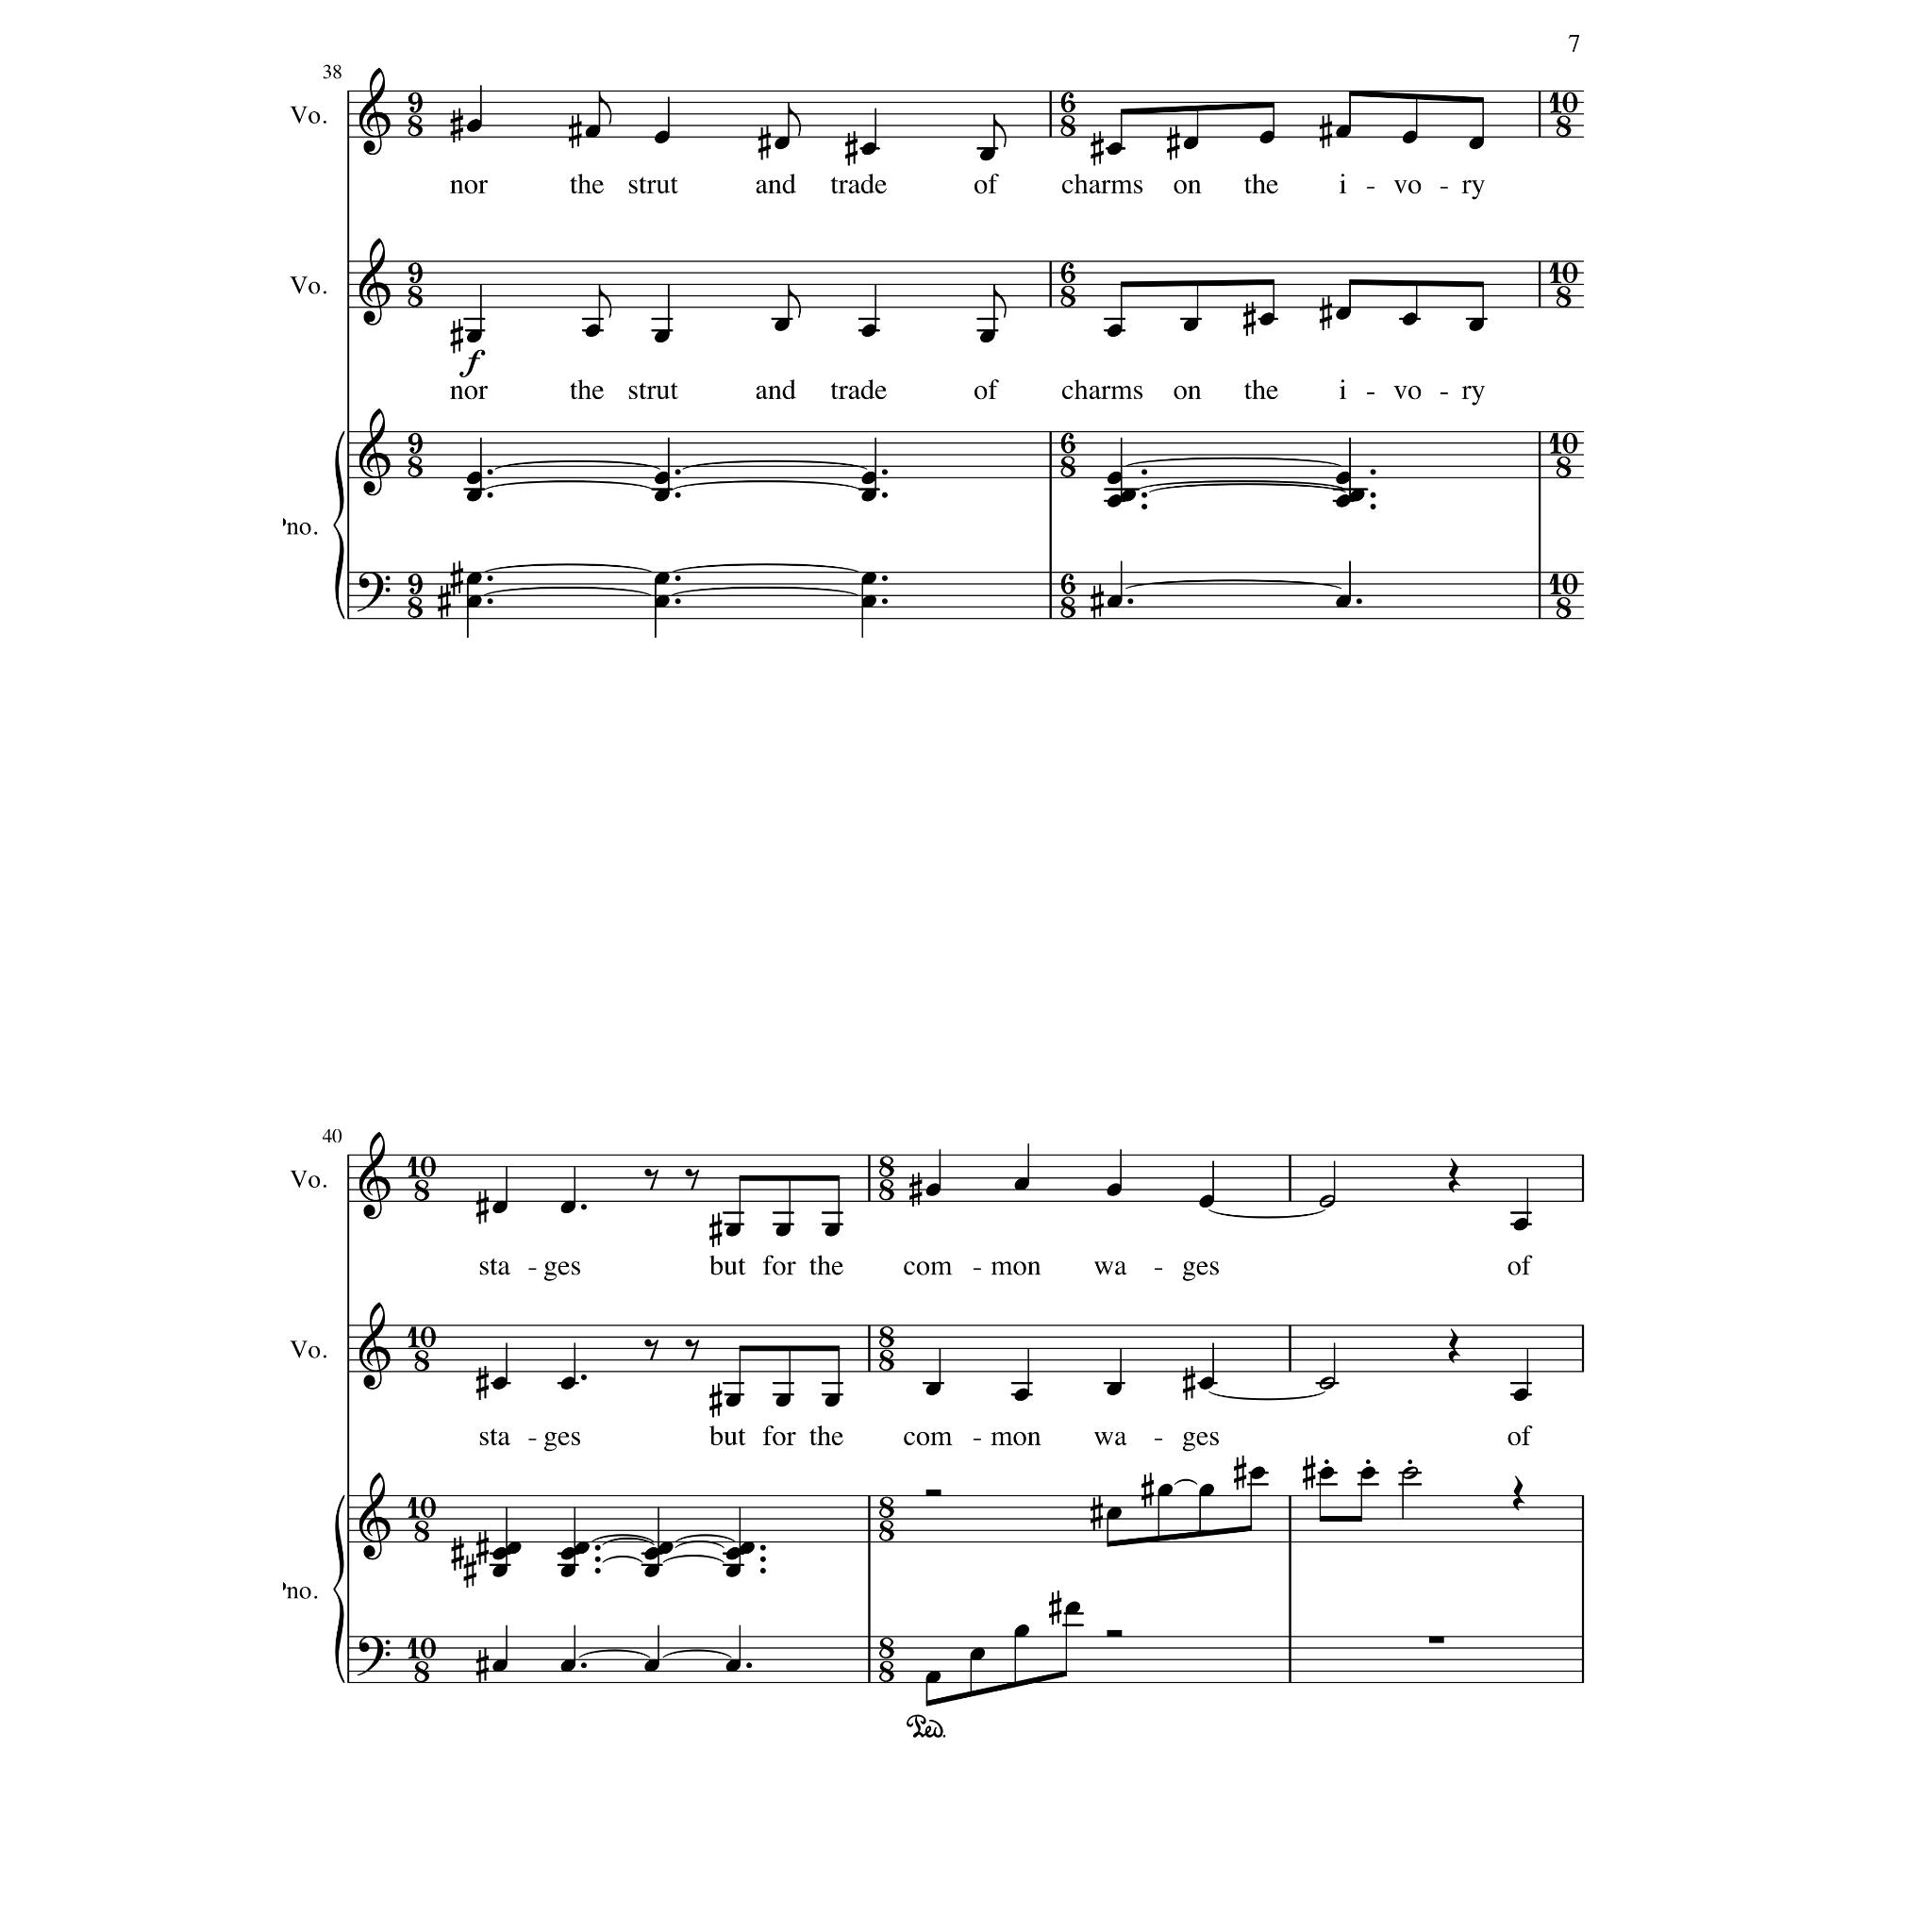brace: (333, 430, 345, 621), (333, 1495, 345, 1684)
fClef: (357, 571, 391, 612), (357, 1637, 391, 1677)
flag8thUp: (993, 285, 1007, 318), (993, 115, 1007, 149), (787, 285, 801, 318), (787, 103, 801, 136), (600, 285, 612, 318), (600, 92, 612, 126)
gClef: (359, 67, 391, 156), (359, 407, 391, 495), (359, 237, 391, 326), (359, 1131, 391, 1219), (359, 1302, 391, 1391), (359, 1472, 391, 1560)
noteheadBlack: (773, 136, 791, 150), (773, 318, 791, 333), (559, 1546, 577, 1560), (573, 1541, 591, 1555), (1260, 131, 1276, 145), (1336, 594, 1352, 609), (1336, 471, 1352, 485), (1350, 488, 1366, 502), (1336, 494, 1352, 508), (1336, 306, 1352, 320), (1182, 318, 1198, 333), (1182, 136, 1198, 150), (1468, 136, 1484, 150), (1468, 318, 1484, 333), (1401, 131, 1417, 145), (465, 571, 481, 586), (465, 594, 481, 609), (465, 471, 481, 485), (653, 471, 669, 485), (653, 488, 669, 502), (653, 131, 669, 145), (465, 488, 481, 502), (584, 324, 600, 338), (465, 119, 481, 133), (653, 594, 669, 609), (862, 571, 878, 586), (1106, 594, 1122, 609), (1106, 471, 1122, 485), (1120, 488, 1136, 502), (1106, 494, 1122, 508), (1106, 324, 1122, 338), (862, 471, 878, 485), (653, 571, 669, 586), (862, 594, 878, 609), (862, 488, 878, 502), (862, 324, 878, 338), (1198, 1194, 1214, 1208), (1318, 1465, 1334, 1479), (1249, 1465, 1265, 1479), (1014, 1624, 1030, 1638), (1014, 1177, 1030, 1191), (1106, 1506, 1122, 1520), (1106, 1382, 1122, 1396), (1106, 1184, 1122, 1198), (1065, 1601, 1081, 1615), (1361, 1465, 1376, 1479), (1513, 1217, 1529, 1231), (644, 1546, 660, 1560), (658, 1541, 674, 1555), (492, 1546, 508, 1560), (506, 1541, 522, 1555), (824, 1394, 840, 1408), (925, 1184, 941, 1198), (925, 1382, 941, 1396), (824, 1223, 840, 1237), (775, 1394, 791, 1408), (775, 1223, 791, 1237), (925, 1670, 941, 1684), (740, 1541, 755, 1555), (725, 1546, 741, 1560), (725, 1394, 741, 1408), (725, 1223, 741, 1237), (559, 1201, 577, 1214), (559, 1376, 577, 1389), (559, 1566, 577, 1578), (559, 1660, 577, 1672), (1260, 313, 1276, 326), (1336, 126, 1352, 138), (1401, 313, 1417, 326), (653, 331, 669, 343), (584, 126, 600, 138), (465, 331, 481, 343), (978, 149, 994, 161), (978, 331, 994, 343), (1106, 143, 1122, 156), (862, 143, 878, 156), (1198, 1376, 1214, 1389), (1198, 1484, 1214, 1497), (1157, 1484, 1173, 1497), (1014, 1389, 1030, 1401), (970, 1647, 985, 1660), (1513, 1389, 1529, 1401), (644, 1566, 660, 1578), (644, 1660, 660, 1672), (492, 1201, 508, 1214), (492, 1376, 508, 1389), (492, 1566, 508, 1578), (492, 1660, 508, 1672), (725, 1660, 741, 1672), (725, 1566, 741, 1578)
noteheadHalf: (1318, 1194, 1336, 1208), (1401, 1467, 1419, 1481), (1318, 1376, 1336, 1389)
rest8th: (685, 1339, 701, 1361), (685, 1169, 701, 1191), (644, 1169, 658, 1191), (644, 1339, 658, 1361)
restHalf: (1106, 1629, 1122, 1638), (925, 1490, 941, 1497)
restQuarter: (1513, 1476, 1525, 1511), (1447, 1329, 1460, 1364), (1447, 1159, 1460, 1192)
restWhole: (1428, 1637, 1444, 1644)
